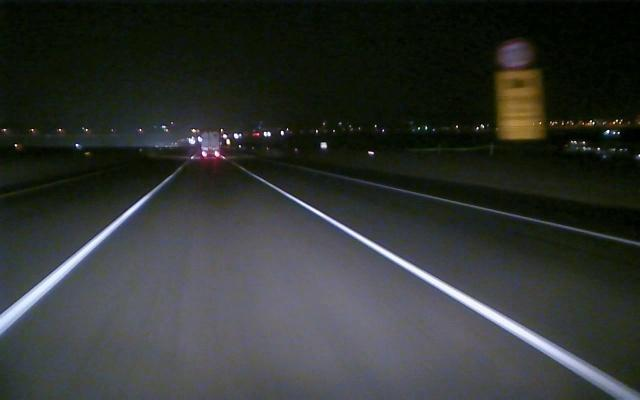lane: (252, 175, 630, 396), (2, 182, 161, 334), (353, 180, 640, 246), (0, 171, 106, 199)
